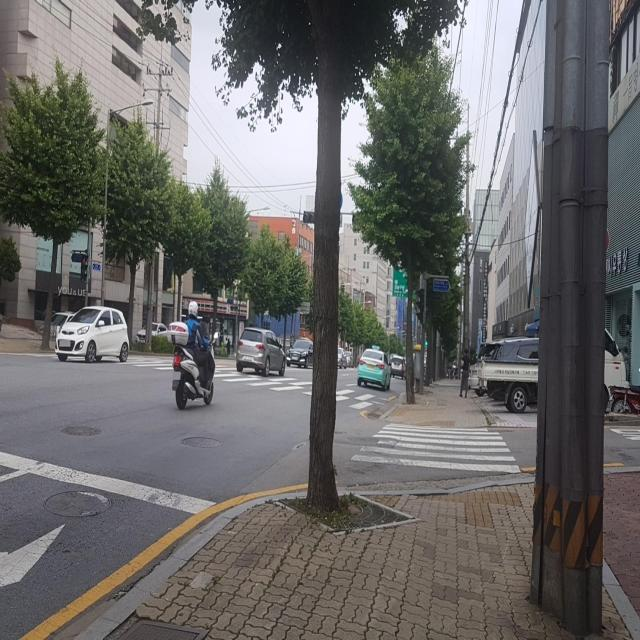횡단보도: (350, 421, 522, 474)
